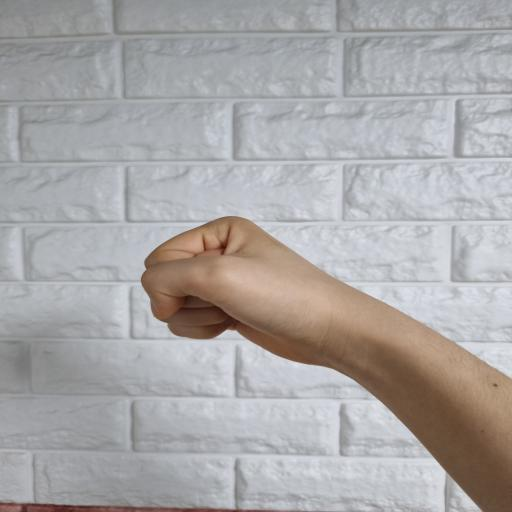Rock: (141, 216, 354, 368)
